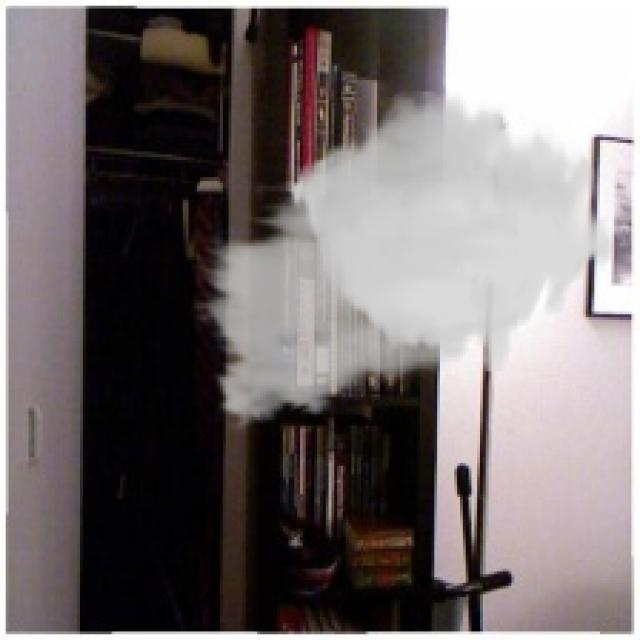Smoke: (192, 92, 614, 437)
